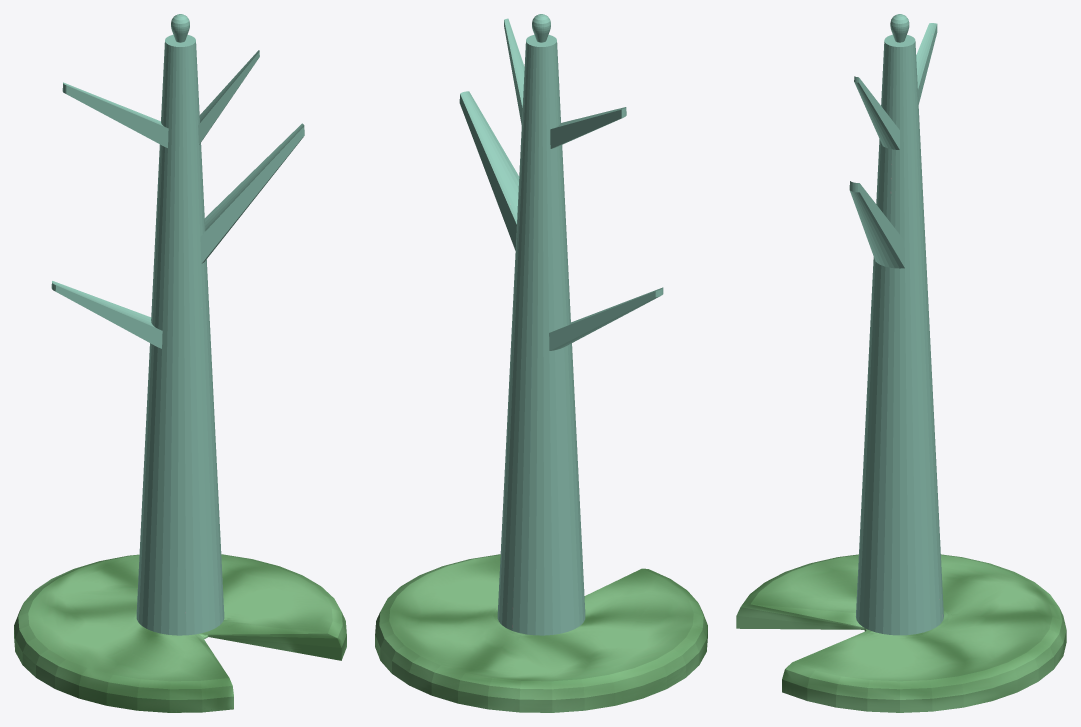
The model's file is CoatRack.fbx.
3 views of the same model, side by side, from view 1: azimuth 30°, elevation 25°; view 2: azimuth 150°, elevation 25°; view 3: azimuth 270°, elevation 25° (orthographic).
Visible parts, largest first — view 1: Rack; view 2: Rack; view 3: Rack.
Part boxes in pixels (x1,y1,x2,y2): Rack: (14,14,346,712); Rack: (375,14,707,712); Rack: (736,14,1066,712).
Size of the model in its own units: 2 by 1.98 by 4.15.
